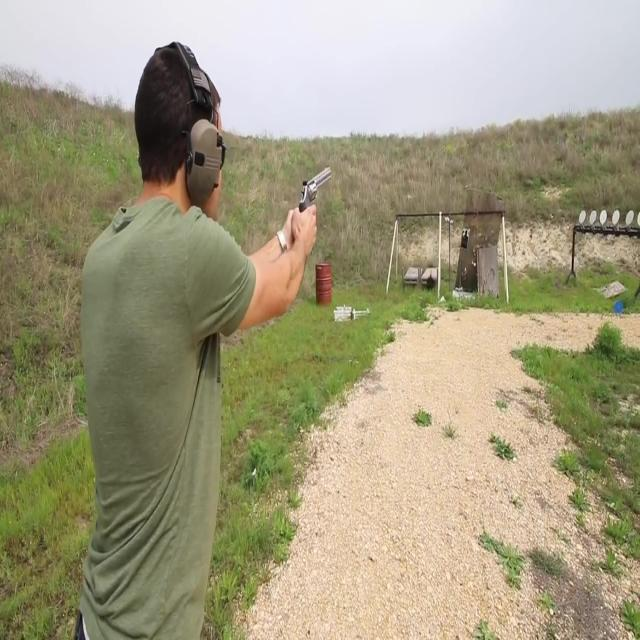Weapon: (299, 144, 350, 276)
